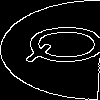Q: (24, 25, 100, 65)
